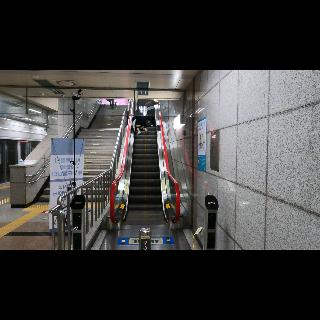normal: (132, 109, 150, 137), (147, 100, 163, 128), (104, 96, 120, 110)
